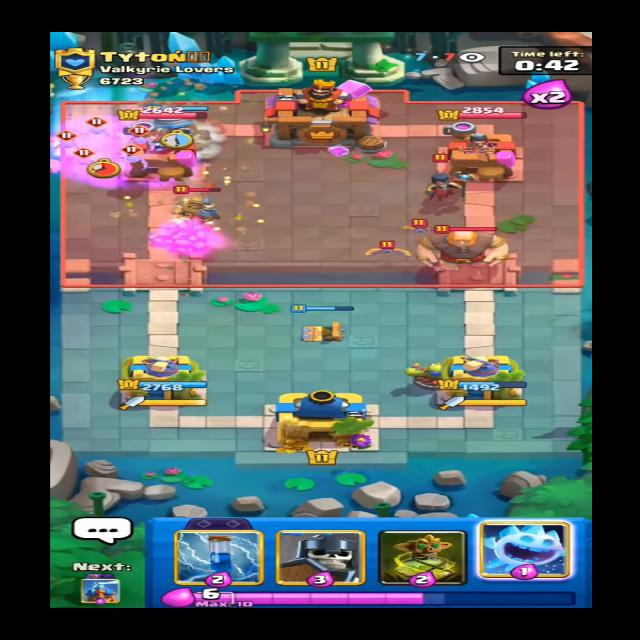bats: (398, 220, 448, 240), (363, 240, 408, 258)
evo-bats: (115, 148, 153, 170), (84, 118, 112, 142), (50, 128, 80, 149), (130, 126, 158, 147)
giant: (411, 219, 514, 265)
night-witch: (422, 154, 468, 208)
prince: (171, 178, 223, 236)
